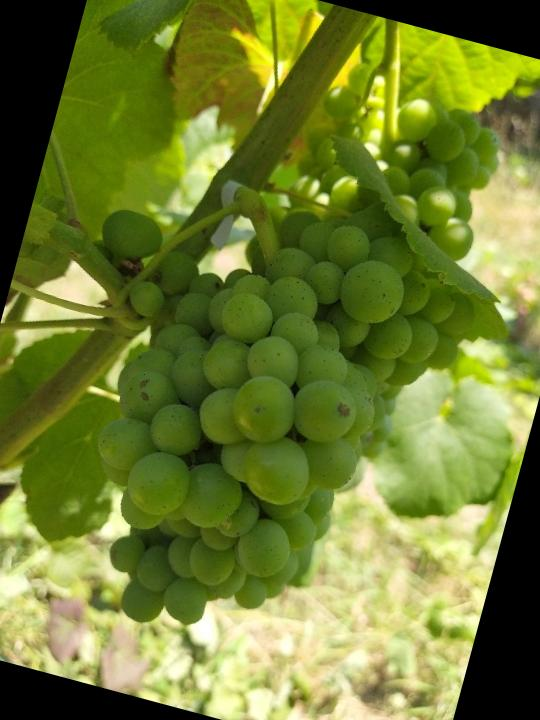grape: (6, 139, 494, 686)
